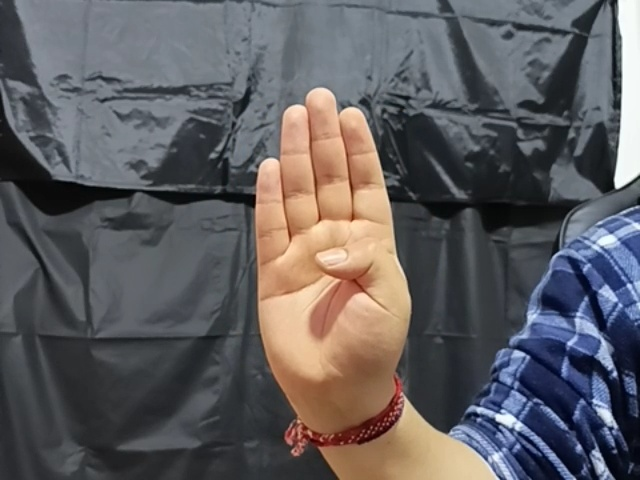B: (244, 85, 413, 395)
